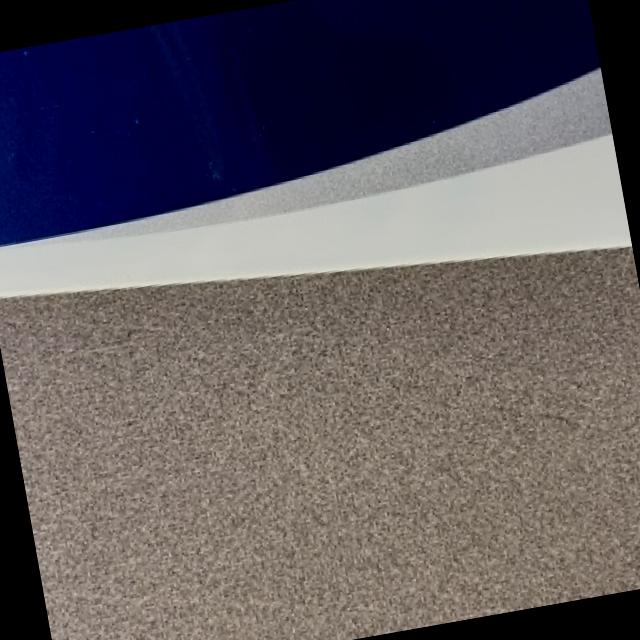healthy: (0, 245, 640, 640), (0, 0, 611, 287)
